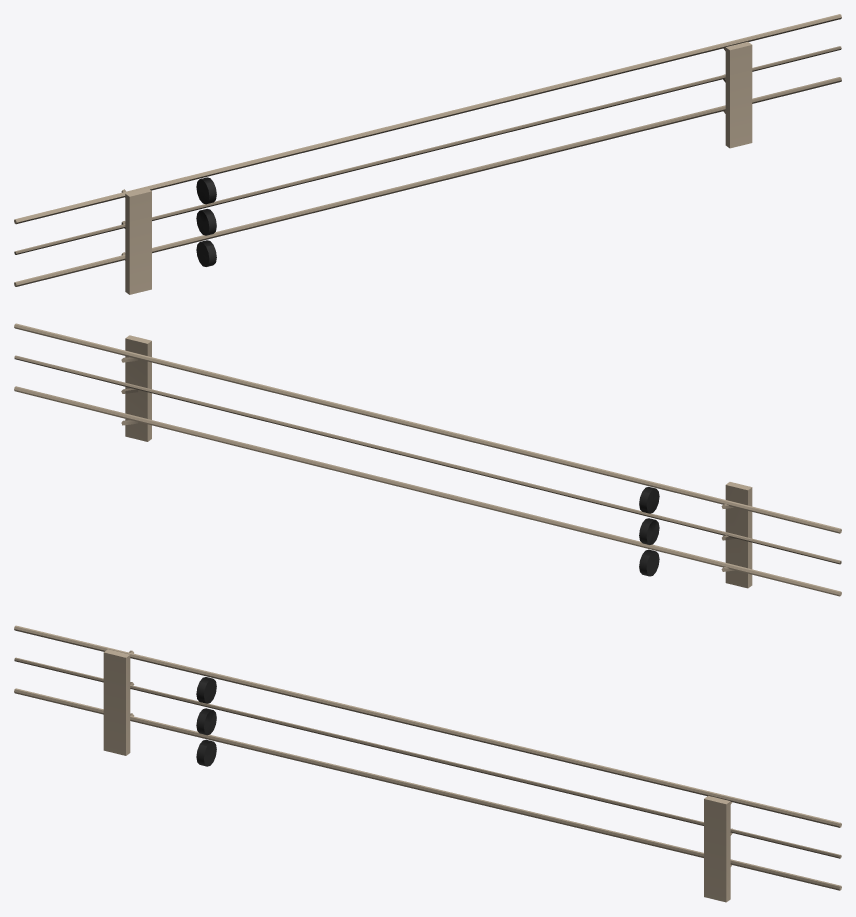
File: rods_rack.glb
The picture shows the model from 3 angles, top to bottom: view 1: azimuth 30°, elevation 25°; view 2: azimuth 150°, elevation 25°; view 3: azimuth 330°, elevation 25°; orthographic projection.
Visible parts, largest first — view 1: static; view 2: static; view 3: static.
Part boxes in pixels (box(x1,y1,x2,y2)): static: box(14, 14, 841, 294); static: box(14, 323, 841, 596); static: box(14, 625, 841, 902).
Size of the model in its own units: 2.2 by 0.255 by 0.09.
